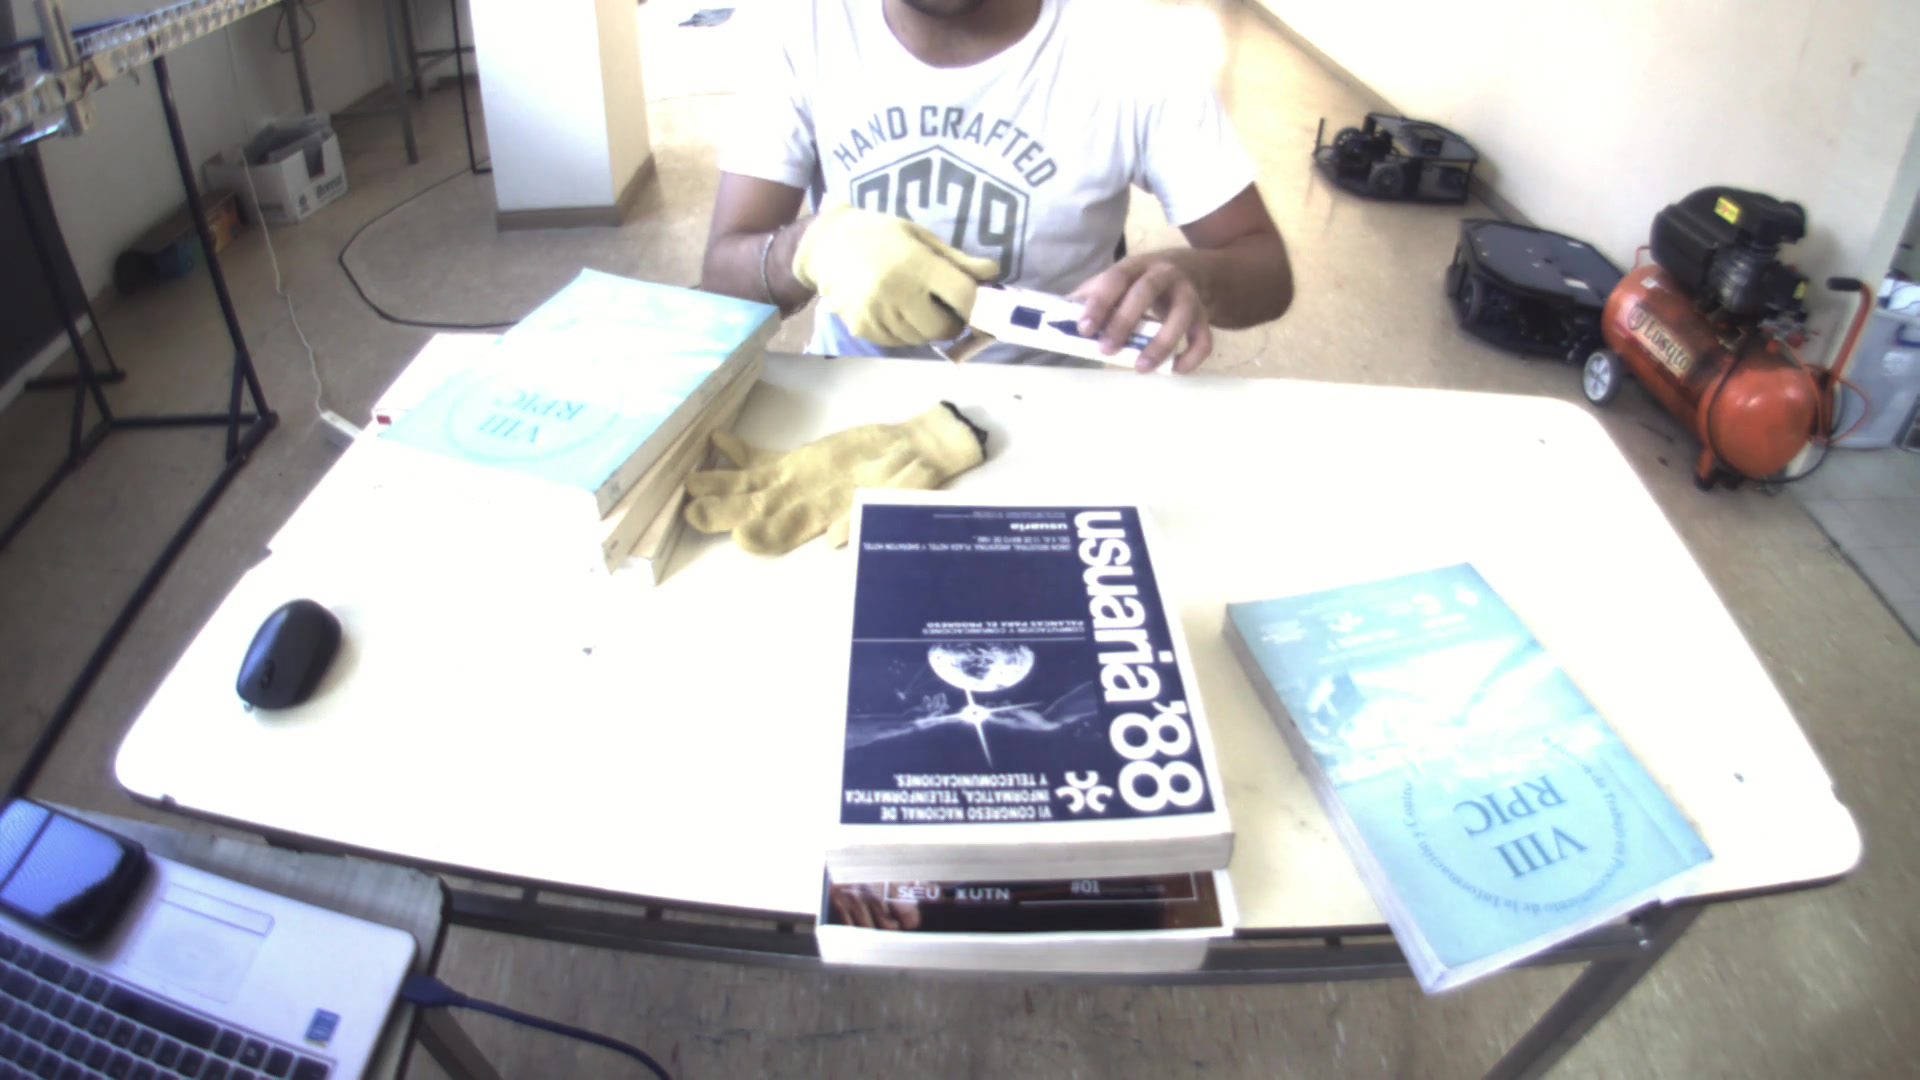hand: (800, 196, 984, 352), (1071, 231, 1226, 376)
